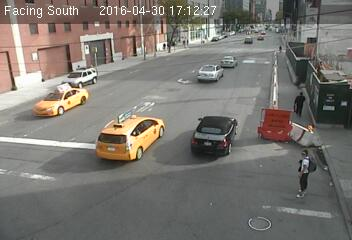neg: (23, 78, 59, 126), (256, 93, 285, 131), (222, 115, 243, 142), (120, 105, 133, 122), (187, 125, 199, 141), (108, 114, 119, 129), (182, 48, 193, 62), (87, 44, 98, 57), (123, 47, 133, 60), (206, 67, 215, 79), (146, 46, 154, 57), (212, 46, 219, 56)
pos: (286, 149, 324, 200), (291, 90, 314, 120), (278, 44, 286, 54)
